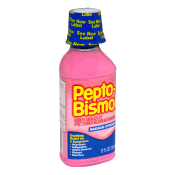grozi_96: (59, 8, 116, 166)
